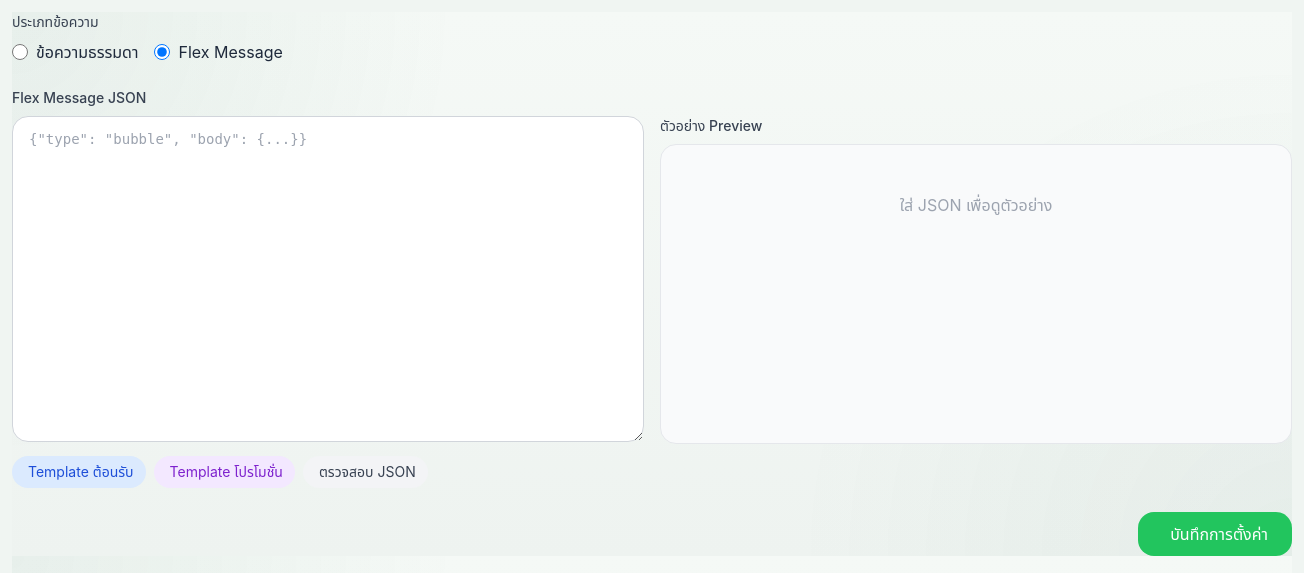
it: WelcomeMessageForm › loads the "promo" template into the textarea and preview on click
What coordinates should you click on to do the following:
click the button "Template โปรโมชั่น"
I would click on:
 (224, 472)
Its box is [154,456,295,488].
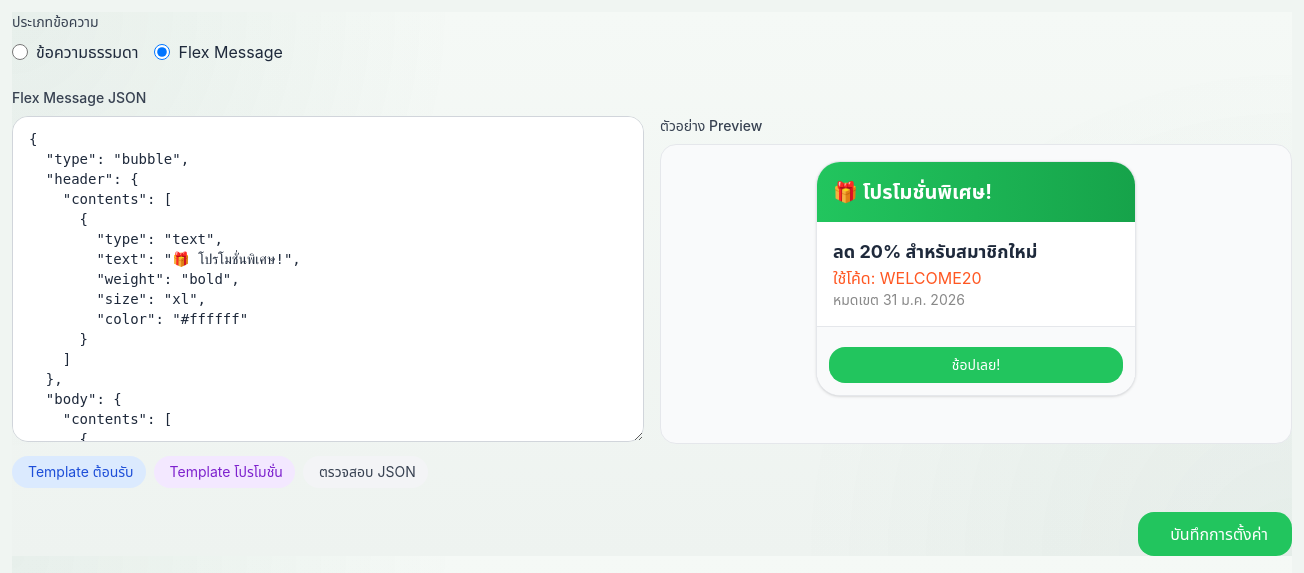
Expected: the text "ใช้โค้ด: WELCOME20" is shown, [833,268,982,288]
